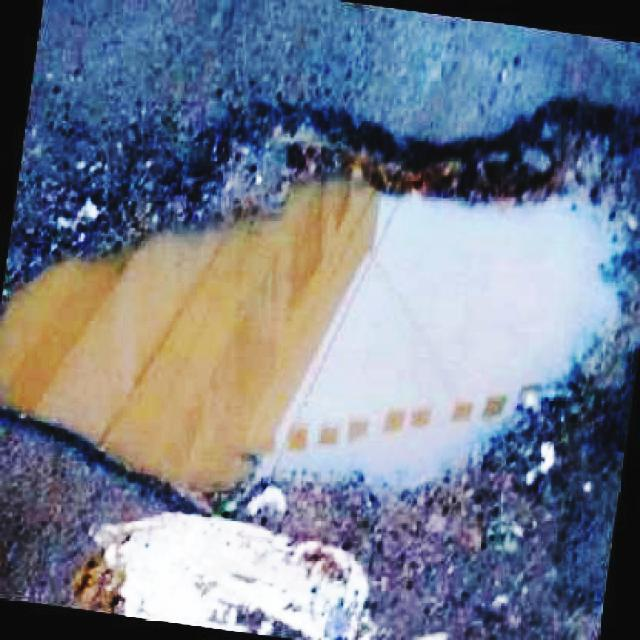pothole: (4, 90, 640, 546)
